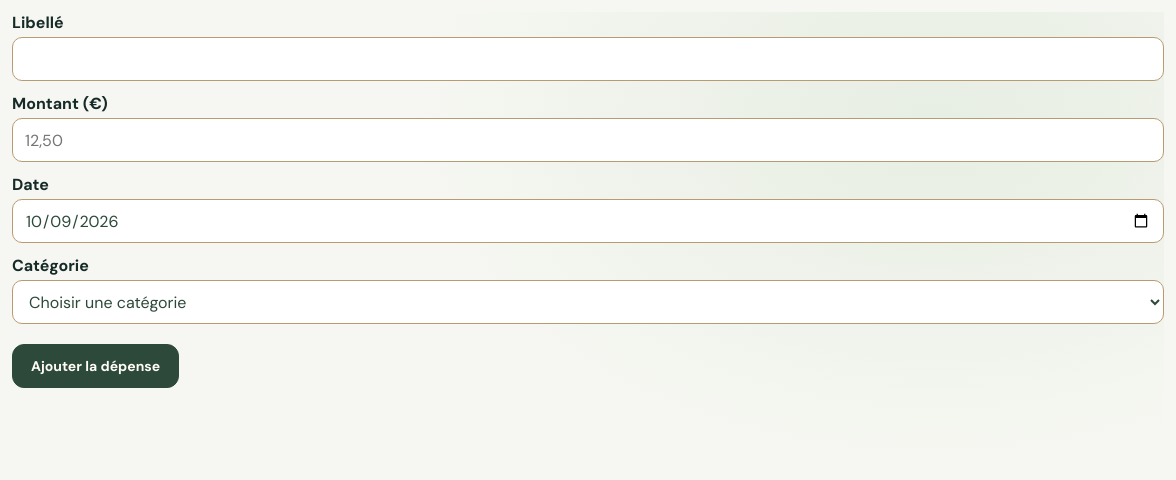
Test: Formulaire de dépense › refuse une saisie invalide sans appeler l’API
Click the button "Ajouter la dépense": (96, 366) x1=12 y1=344 x2=179 y2=388
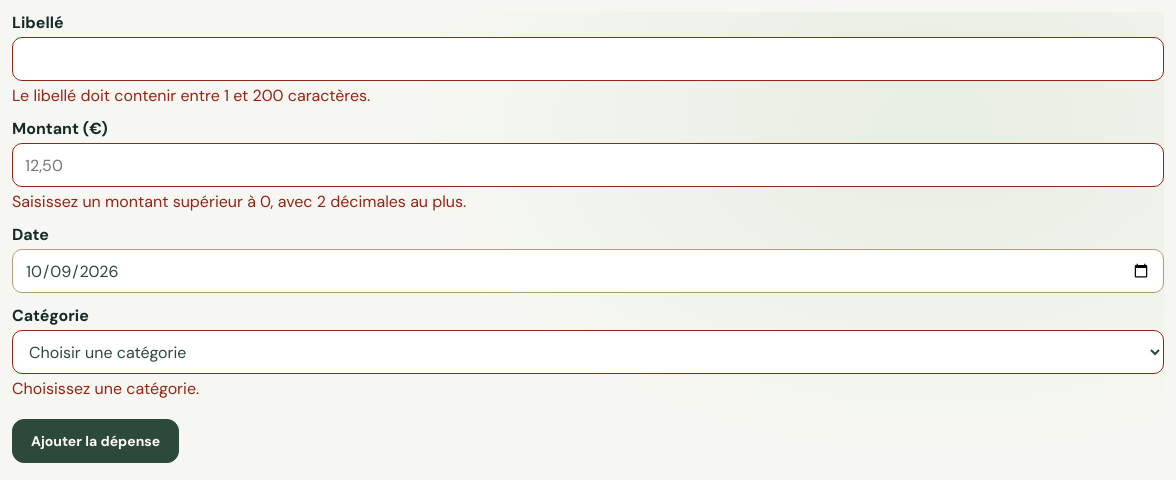
Result: the text "Choisissez une catégorie." is shown at x1=12 y1=378 x2=199 y2=399
